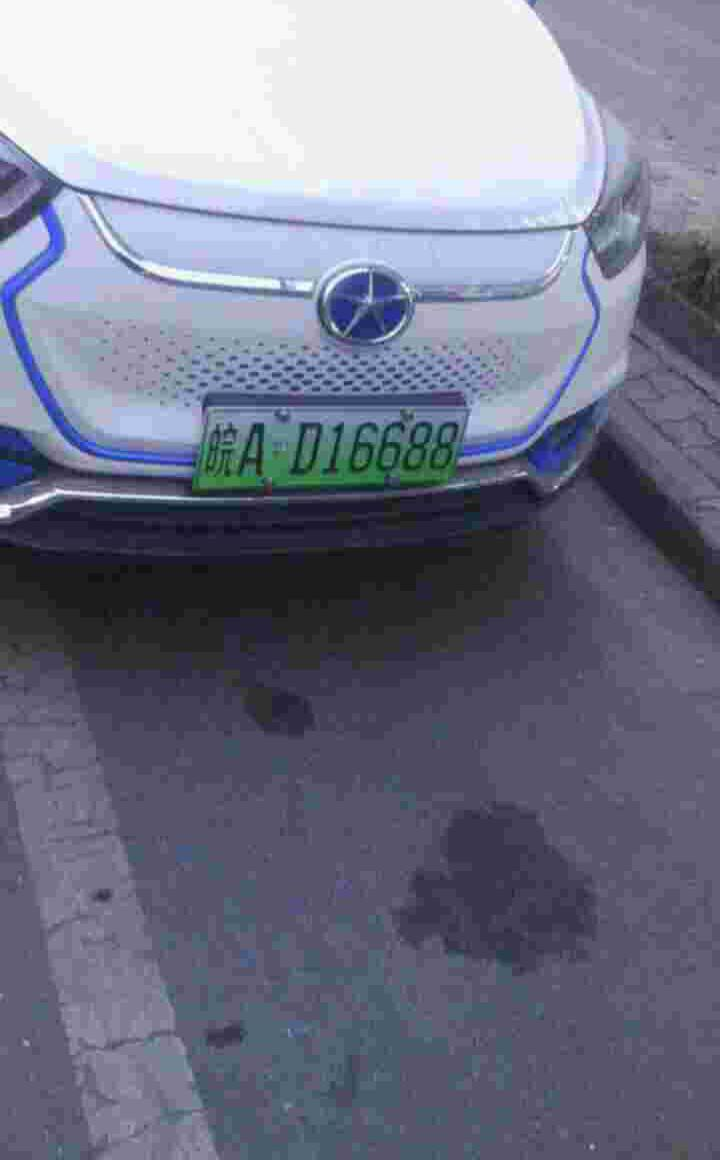car: (202, 411, 458, 491)
